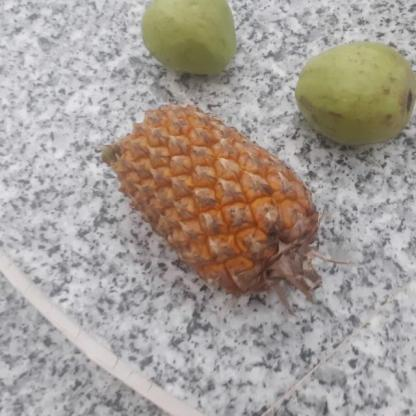guava: (292, 43, 416, 143), (138, 0, 238, 78)
pineapple: (98, 101, 320, 297)
